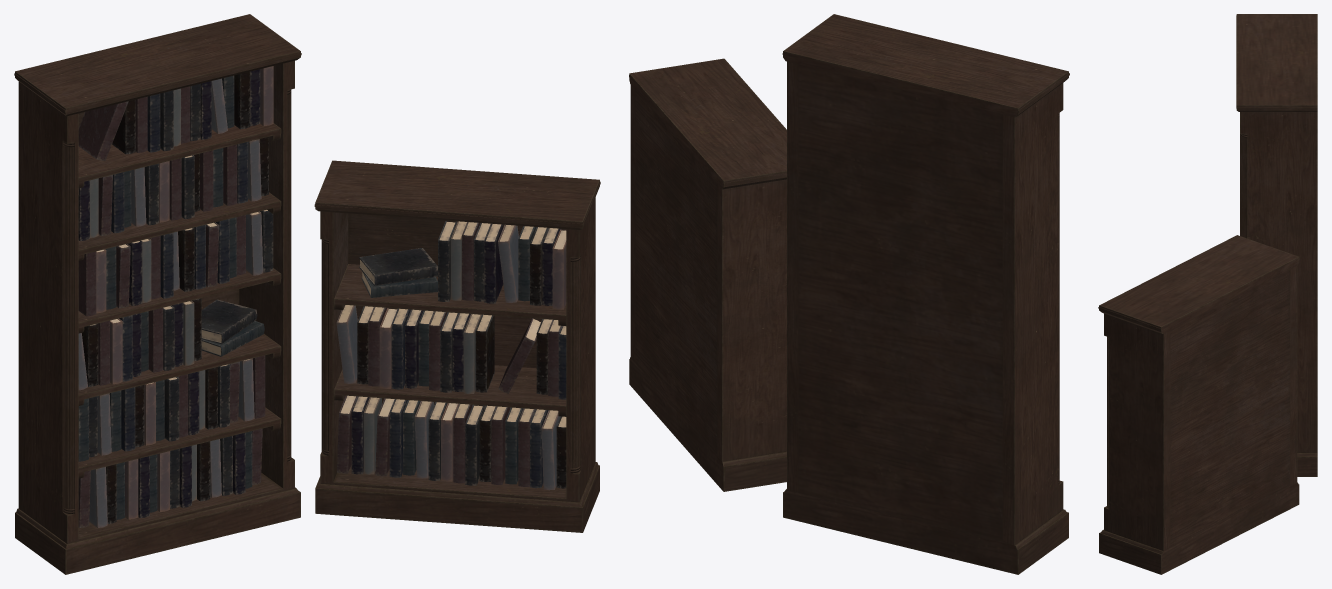
The model's file is wooden_bookcases_with_books.glb.
3 renders of one model, left to right at view 1: azimuth 30°, elevation 25°; view 2: azimuth 150°, elevation 25°; view 3: azimuth 270°, elevation 25°, orthographic. The views are drawn at different scales.
Parts seen in each view (by area): view 1: Victorian Bookcase Tall, Victorian Bookcase Small, Victorian Bookcase Small Books 1, Victorian Bookcase Tall Books 5, Victorian Bookcase Small Books 2, Victorian Bookcase Tall Books 2, Victorian Bookcase Tall Books 6, Victorian Bookcase Tall Books 1, Victorian Bookcase Tall Books 7, Victorian Bookcase Small Books 4, Victorian Bookcase Tall Books 3, Victorian Bookcase Tall Corner (+4 smaller); view 2: Victorian Bookcase Tall, Victorian Bookcase Small, Victorian Bookcase Tall Corner; view 3: Victorian Bookcase Small, Victorian Bookcase Tall, Victorian Bookcase Tall Corner, Victorian Bookcase Small Corner.
Part boxes in pixels (bbox=[...]): Victorian Bookcase Tall: bbox=[14, 14, 301, 574]; Victorian Bookcase Small: bbox=[314, 160, 600, 532]; Victorian Bookcase Small Books 1: bbox=[337, 395, 566, 490]; Victorian Bookcase Tall Books 5: bbox=[78, 210, 273, 316]; Victorian Bookcase Small Books 2: bbox=[336, 305, 494, 393]; Victorian Bookcase Tall Books 2: bbox=[78, 355, 265, 461]; Victorian Bookcase Tall Books 6: bbox=[78, 137, 268, 240]; Victorian Bookcase Tall Books 1: bbox=[78, 428, 262, 527]; Victorian Bookcase Tall Books 7: bbox=[78, 66, 273, 161]; Victorian Bookcase Small Books 4: bbox=[438, 221, 566, 309]; Victorian Bookcase Tall Books 3: bbox=[78, 298, 201, 390]; Victorian Bookcase Tall Corner: bbox=[63, 89, 291, 513]; Victorian Bookcase Tall: bbox=[782, 14, 1069, 574]; Victorian Bookcase Small: bbox=[629, 58, 786, 491]; Victorian Bookcase Tall Corner: bbox=[1058, 113, 1059, 483]; Victorian Bookcase Small: bbox=[1098, 235, 1299, 574]; Victorian Bookcase Tall: bbox=[1236, 14, 1317, 476]; Victorian Bookcase Tall Corner: bbox=[1240, 134, 1247, 238]; Victorian Bookcase Small Corner: bbox=[1107, 336, 1109, 508].
Size of the model in its own units: 1.97 by 1.8 by 0.9618.
Materials: 1 (1 with a texture image).
